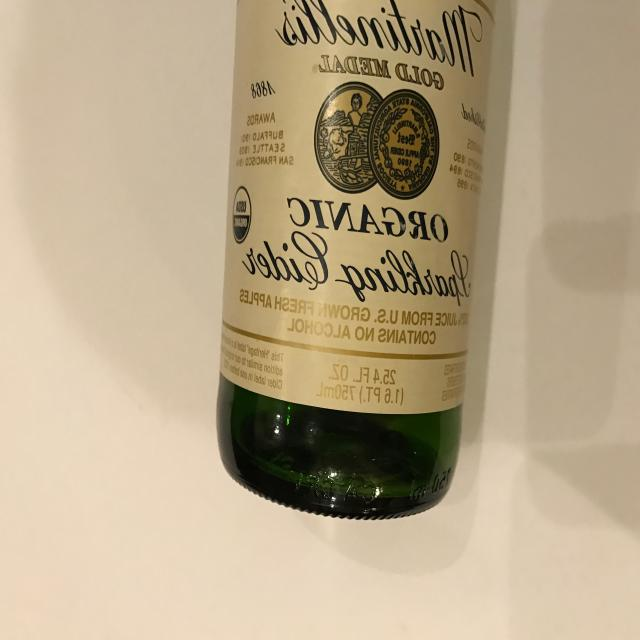glass: (215, 0, 513, 521)
